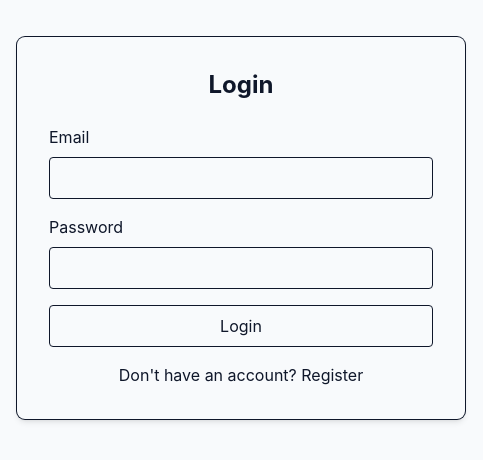
Test case: Login › validates short password
Step 1. Type "test@example.com" into the field labelled "Email" → (241, 178), box [49,157,433,199]
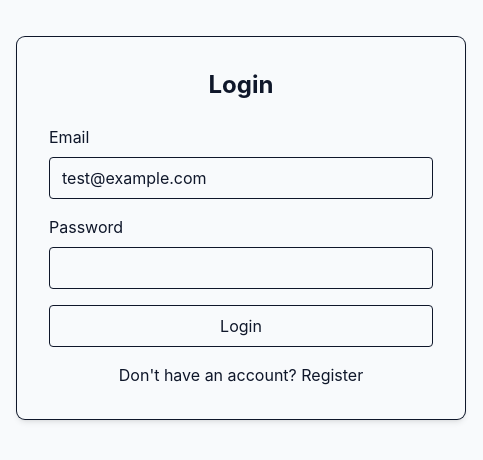
Step 2. Type "123" into the password field labelled "Password" → (241, 268), box [49,247,433,289]
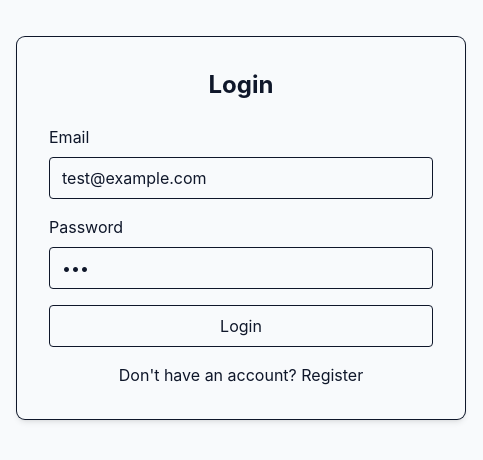
Step 3. Click the button "Login" → (241, 326), box [49,305,433,347]
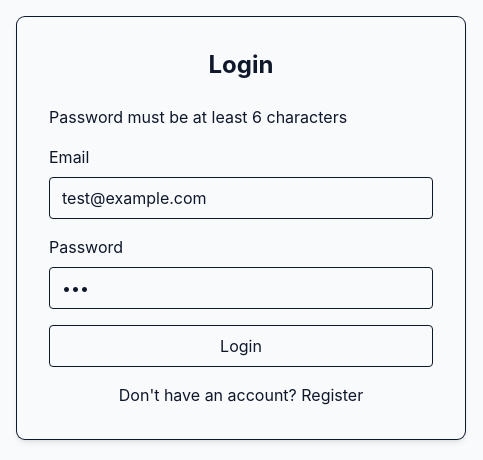
Expected: the text "Password must be at least 6 characters" is shown, [49,107,347,127]
